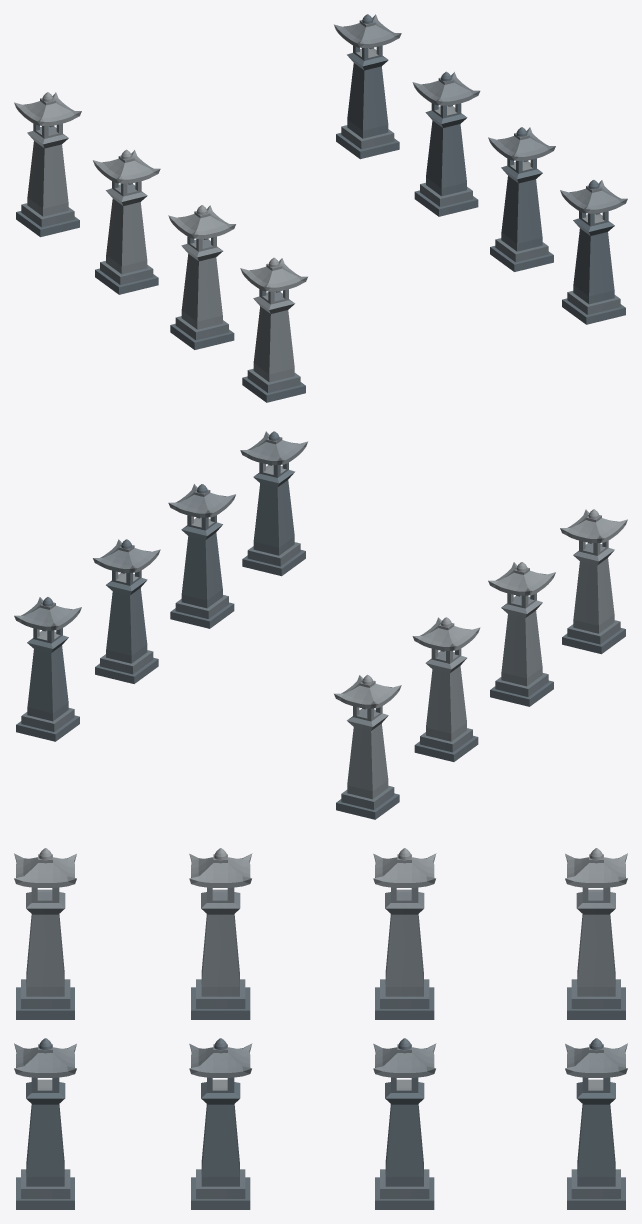
The model's file is touro2.obj.
3 renders of one model, top to bottom at view 1: azimuth 30°, elevation 25°; view 2: azimuth 150°, elevation 25°; view 3: azimuth 270°, elevation 25°, orthographic. The views are drawn at different scales.
Visible parts, largest first — view 1: 円柱.020; view 2: 円柱.020; view 3: 円柱.020.
Boxes of the visible parts, left/top/right/bottom form: 円柱.020: left=14, top=14, right=627, bottom=402; 円柱.020: left=14, top=431, right=627, bottom=819; 円柱.020: left=14, top=848, right=627, bottom=1209.
Bounding box in the file's own units: 262 × 90.81 × 317.
Materials: 1 (1 with a texture image).
